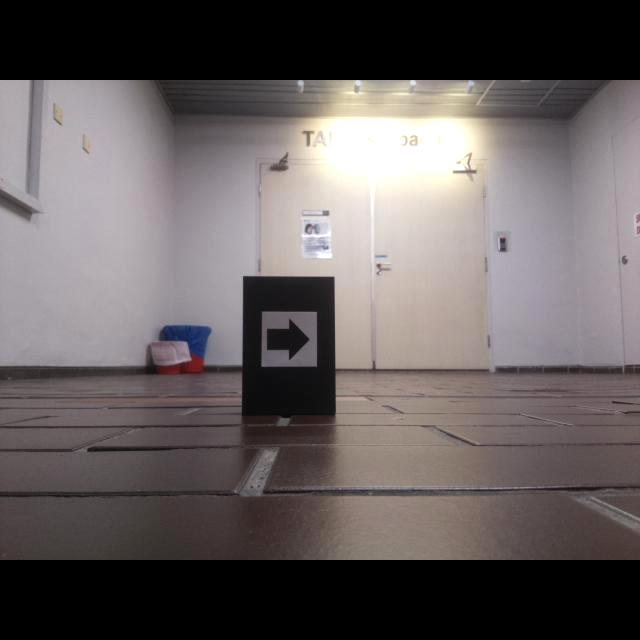RIGHT: (267, 321, 310, 358)
